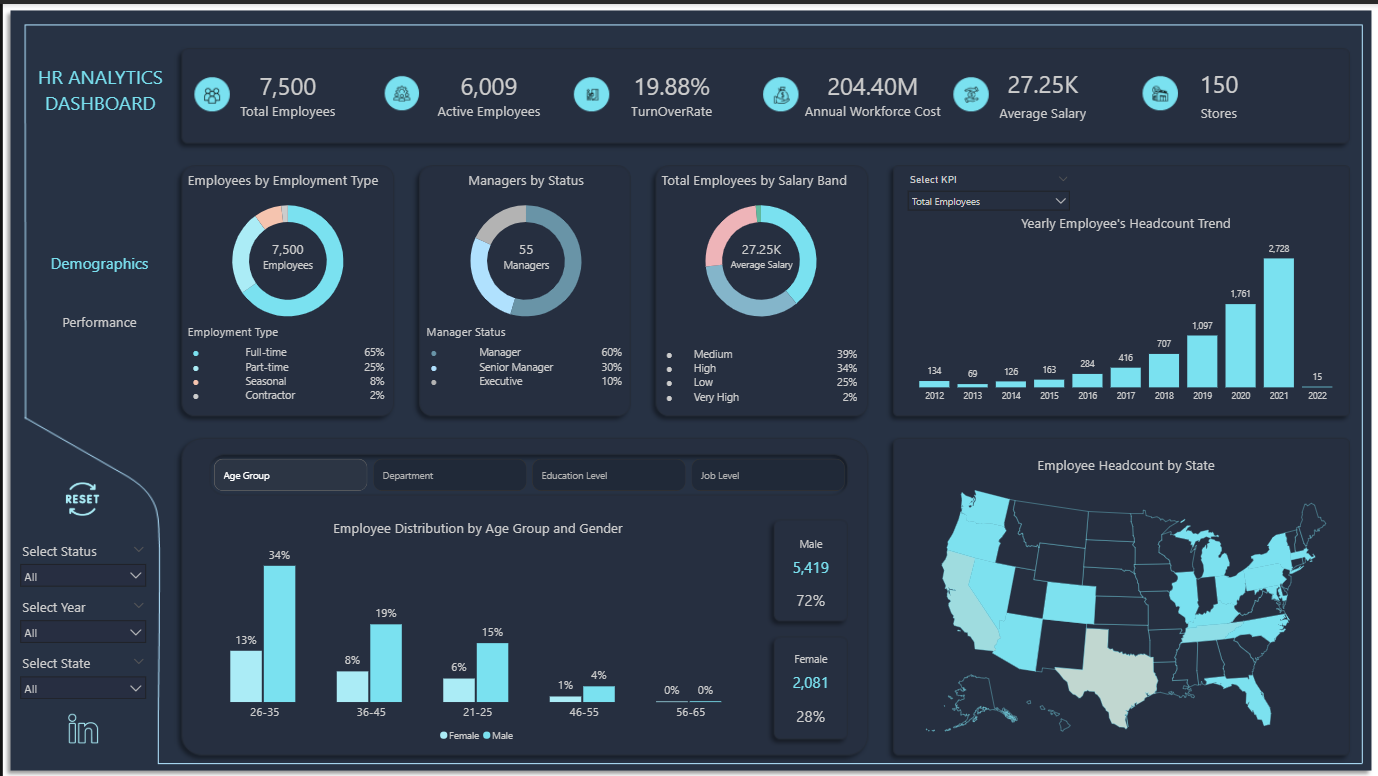

The page's visual inventory and layout, read from the dashboard file:
{"tool":"powerbi","page":{"name":"Demographics","canvas":[1920,1080],"ordinal":0},"visuals":[{"type":"cardVisual","fields":{"Data":["Measure_table.Total Employee"]},"box":[314,62.8,167.4,127.3],"z":0},{"type":"cardVisual","fields":{"Data":["Measure_table.Active Employees"]},"box":[586,62.8,184.9,127.3],"z":1000},{"type":"cardVisual","fields":{"Data":["Measure_table.TurnOverRate"]},"box":[849.4,62.8,167.4,127.3],"z":2000},{"type":"cardVisual","fields":{"Data":["Measure_table.Annual Workforce Cost"]},"box":[1093.6,62.8,240.7,127.3],"z":3000},{"type":"donutChart","title":"Employees by Employment Type","fields":{"Y":["Measure_table.Total Employees"],"Category":["Employees.Employment_Type"]},"box":[252.9,232,289.5,228.5],"z":4000},{"type":"cardVisual","fields":{"Data":["Measure_table.Total Employee"]},"box":[343.7,313,108.9,68.1],"z":5000},{"type":"donutChart","title":"Managers by Status","fields":{"Y":["Measure_table.Managers"],"Category":["Employees.Manager_Status"]},"box":[586,232,287.8,228.5],"z":6000},{"type":"donutChart","title":"Total Employees by Salary Band","fields":{"Y":["Measure_table.Total Employees"],"Category":["Employees.Salary Band"]},"box":[914,232,287.8,228.5],"z":7000},{"type":"tableEx","fields":{"Values":["Measure_table.Icon","Employees.Employment_Type","Measure_table.Total Employees %"]},"box":[252.9,441.4,288.6,124.3],"z":8000},{"type":"tableEx","fields":{"Values":["Measure_table.Icon","Employees.Salary Band","Measure_table.Total Employees %"]},"box":[914,443,287.8,123.8],"z":9000},{"type":"textbox","box":[252.9,441.3,164,38.4],"z":10000},{"type":"advancedSlicerVisual","fields":{"Values":["Demographics.Demographics"]},"box":[289.5,629.7,893,55.8],"z":11000},{"type":"clusteredColumnChart","fields":{"Category":["Employees.Age Group"],"Y":["Measure_table.Total Employees"],"Series":["Employees.Gender"]},"box":[252.9,718.6,819.8,320.9],"z":12000},{"type":"cardVisual","fields":{"Data":["Measure_table.Male"]},"box":[1072.7,718.6,109.9,104.7],"z":13000},{"type":"cardVisual","fields":{"Data":["Measure_table.Male %"]},"box":[1072.7,791.9,109.9,61],"z":14000},{"type":"cardVisual","fields":{"Data":["Measure_table.Female"]},"box":[1072.7,879.1,109.9,104.7],"z":15000},{"type":"cardVisual","fields":{"Data":["Measure_table.Female %"]},"box":[1072.7,954.1,109.9,61],"z":16000},{"type":"tableEx","fields":{"Values":["Measure_table.Icon","Employees.Manager_Status","Measure_table.Total Employees %"]},"box":[586,441.3,287.8,123.8],"z":17000},{"type":"textbox","box":[586,441.3,164,38.4],"z":18000},{"type":"slicer","fields":{"Values":["KPI.KPI"]},"box":[1252.3,232,245.9,61],"z":19000},{"type":"shapeMap","fields":{"Value":["Measure_table.Total Employees"],"Category":["Employees.State"]},"box":[1252.3,629.7,629.7,409.9],"z":20000},{"type":"clusteredColumnChart","fields":{"Y":["Measure_table.Total Employees"],"Category":["Calendar.Year"]},"box":[1252.3,293,629.7,272.1],"z":21000},{"type":"cardVisual","fields":{"Data":["Measure_table.Avg Salary"]},"box":[1334.3,62.8,233.7,127.3],"z":22000},{"type":"cardVisual","fields":{"Data":["Measure_table.Stores"]},"box":[1580.2,62.8,233.7,127.3],"z":23000},{"type":"slicer","title":"Select Status","fields":{"Values":["Employees.Staus"]},"box":[14,744.8,195.3,78.5],"z":24000},{"type":"slicer","title":"Select Status","fields":{"Values":["Calendar.Year"]},"box":[14,823.3,195.3,78.5],"z":25000},{"type":"slicer","title":"Select Status","fields":{"Values":["Employees.State"]},"box":[14,901.7,195.3,78.5],"z":26000},{"type":"image","box":[76.7,985.5,69.8,51],"z":27000},{"type":"image","box":[75,662.8,71.5,55.8],"z":28000},{"type":"pageNavigator","box":[31.4,324.4,207.6,155.2],"z":29000},{"type":"textbox","box":[33.1,78.5,205.8,87.2],"z":30000},{"type":"cardVisual","fields":{"Data":["Measure_table.Managers"]},"box":[677.1,313,107.2,68.1],"z":31000},{"type":"cardVisual","fields":{"Data":["Measure_table.Average Salary"]},"box":[991.9,313,132.7,68.1],"z":32000}]}

Visuals, with their boxes in screenshot pixels (x1, y1, x2, y2), scaled from the page's 1920x1080 canvas onto the 1378x776 screenshot:
cardVisual - Measure_table.Total Employee: [225, 45, 346, 137]
cardVisual - Measure_table.Active Employees: [421, 45, 553, 137]
cardVisual - Measure_table.TurnOverRate: [610, 45, 730, 137]
cardVisual - Measure_table.Annual Workforce Cost: [785, 45, 958, 137]
"Employees by Employment Type" donutChart: [182, 167, 389, 331]
cardVisual - Measure_table.Total Employee: [247, 225, 325, 274]
"Managers by Status" donutChart: [421, 167, 627, 331]
"Total Employees by Salary Band" donutChart: [656, 167, 863, 331]
tableEx - Measure_table.Icon x Employees.Employment_Type: [182, 317, 389, 406]
tableEx - Measure_table.Icon x Employees.Salary Band: [656, 318, 863, 407]
textbox: [182, 317, 299, 345]
advancedSlicerVisual - Demographics.Demographics: [208, 452, 849, 493]
clusteredColumnChart - Employees.Age Group x Measure_table.Total Employees: [182, 516, 770, 747]
cardVisual - Measure_table.Male: [770, 516, 849, 592]
cardVisual - Measure_table.Male %: [770, 569, 849, 613]
cardVisual - Measure_table.Female: [770, 632, 849, 707]
cardVisual - Measure_table.Female %: [770, 686, 849, 729]
tableEx - Measure_table.Icon x Employees.Manager_Status: [421, 317, 627, 406]
textbox: [421, 317, 538, 345]
slicer - KPI.KPI: [899, 167, 1075, 211]
shapeMap - Measure_table.Total Employees x Employees.State: [899, 452, 1351, 747]
clusteredColumnChart - Measure_table.Total Employees x Calendar.Year: [899, 211, 1351, 406]
cardVisual - Measure_table.Avg Salary: [958, 45, 1125, 137]
cardVisual - Measure_table.Stores: [1134, 45, 1302, 137]
"Select Status" slicer: [10, 535, 150, 592]
"Select Status" slicer: [10, 592, 150, 648]
"Select Status" slicer: [10, 648, 150, 704]
image: [55, 708, 105, 745]
image: [54, 476, 105, 516]
pageNavigator: [23, 233, 172, 345]
textbox: [24, 56, 171, 119]
cardVisual - Measure_table.Managers: [486, 225, 563, 274]
cardVisual - Measure_table.Average Salary: [712, 225, 807, 274]
